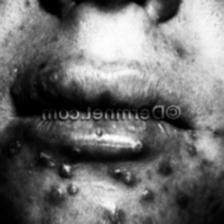Toxin: (120, 170, 138, 186), (60, 164, 72, 176)
